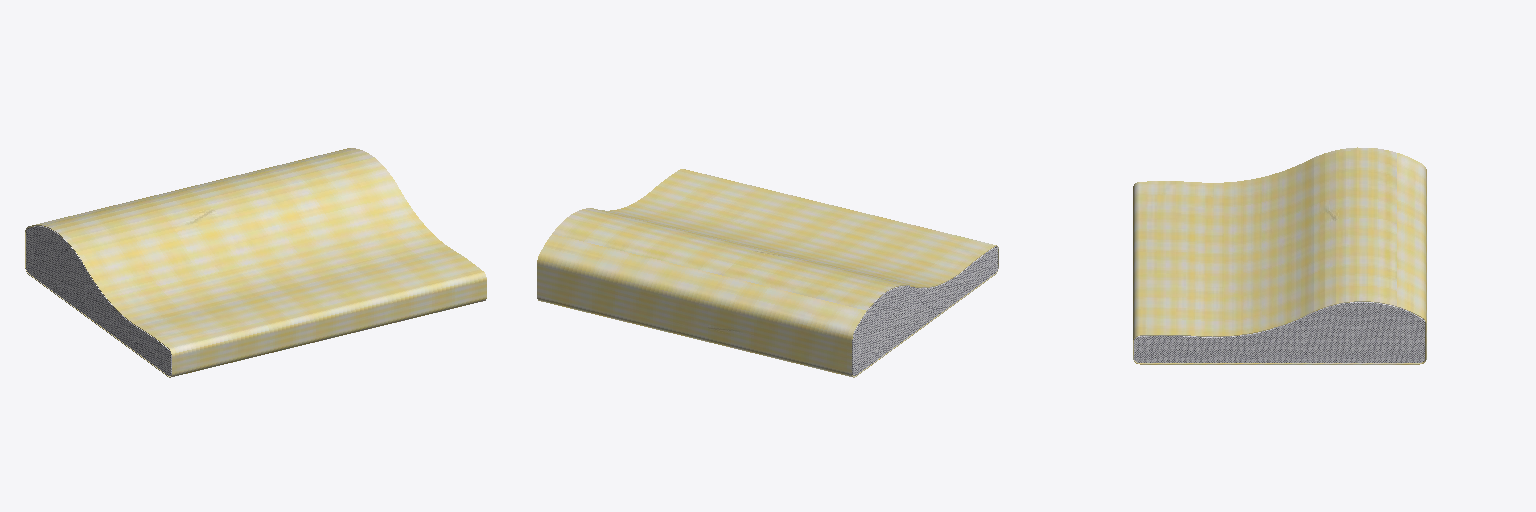
3 views of the same model, side by side, from view 1: azimuth 30°, elevation 25°; view 2: azimuth 150°, elevation 25°; view 3: azimuth 270°, elevation 25° (orthographic).
Visible parts, largest first — view 1: pillow2; view 2: pillow2; view 3: pillow2.
Part boxes in pixels (left/top/right/bottom): pillow2: left=25, top=148, right=486, bottom=377; pillow2: left=537, top=169, right=998, bottom=377; pillow2: left=1133, top=147, right=1426, bottom=364.
Size of the model in its own units: 5.69 by 1.09 by 4.6.
2 materials, 2 textured.